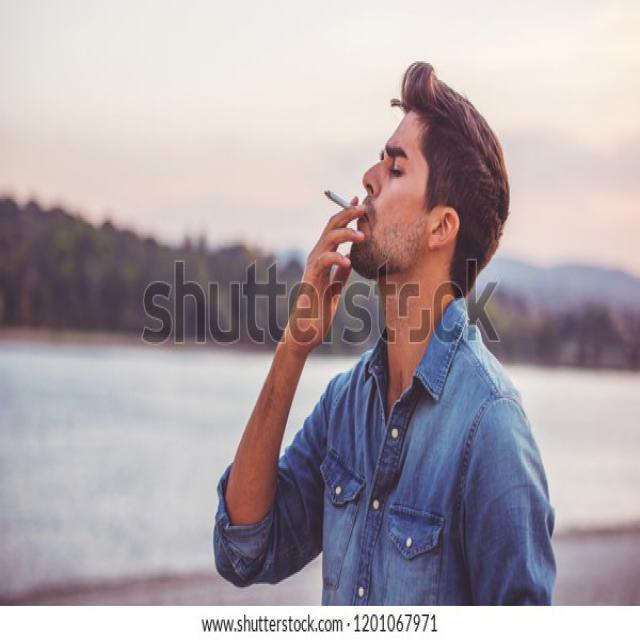cigarette: (321, 186, 359, 212)
